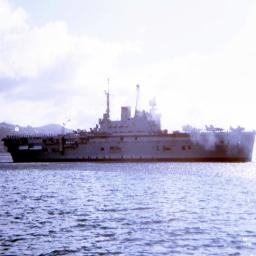Portanaves: (4, 76, 256, 168)
